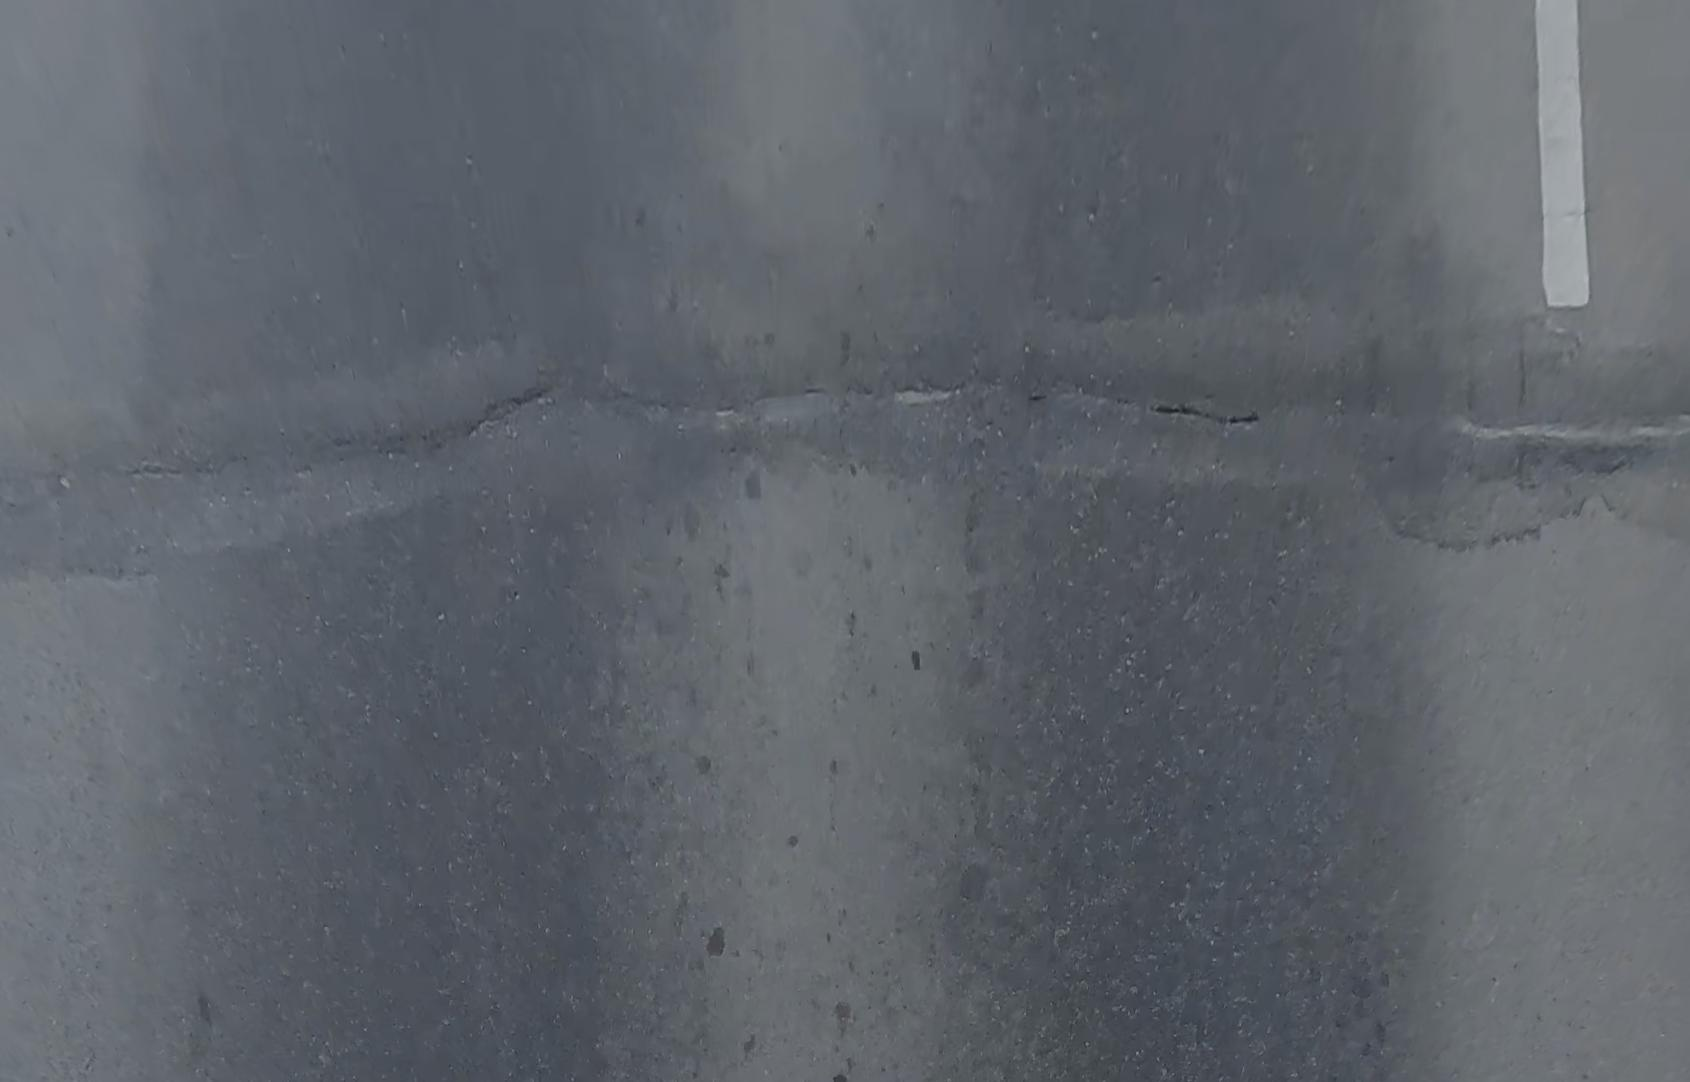pothole_patch_poor: (0, 299, 1690, 587)
